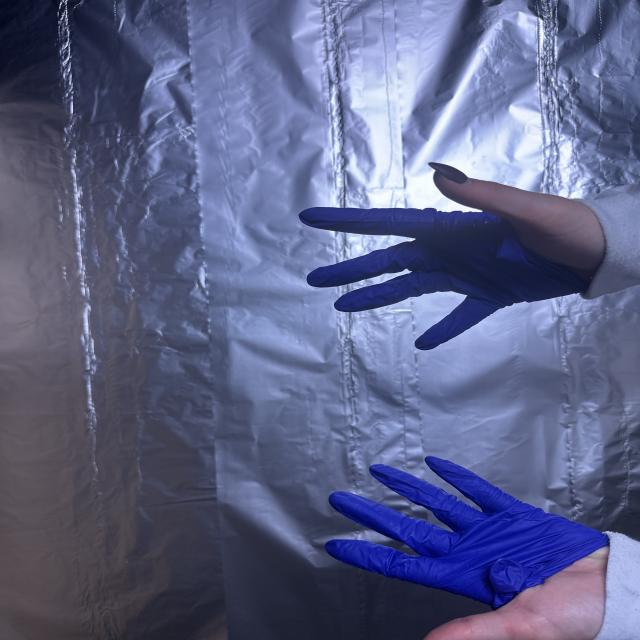glove_partial: (293, 158, 613, 352), (316, 439, 610, 640)
